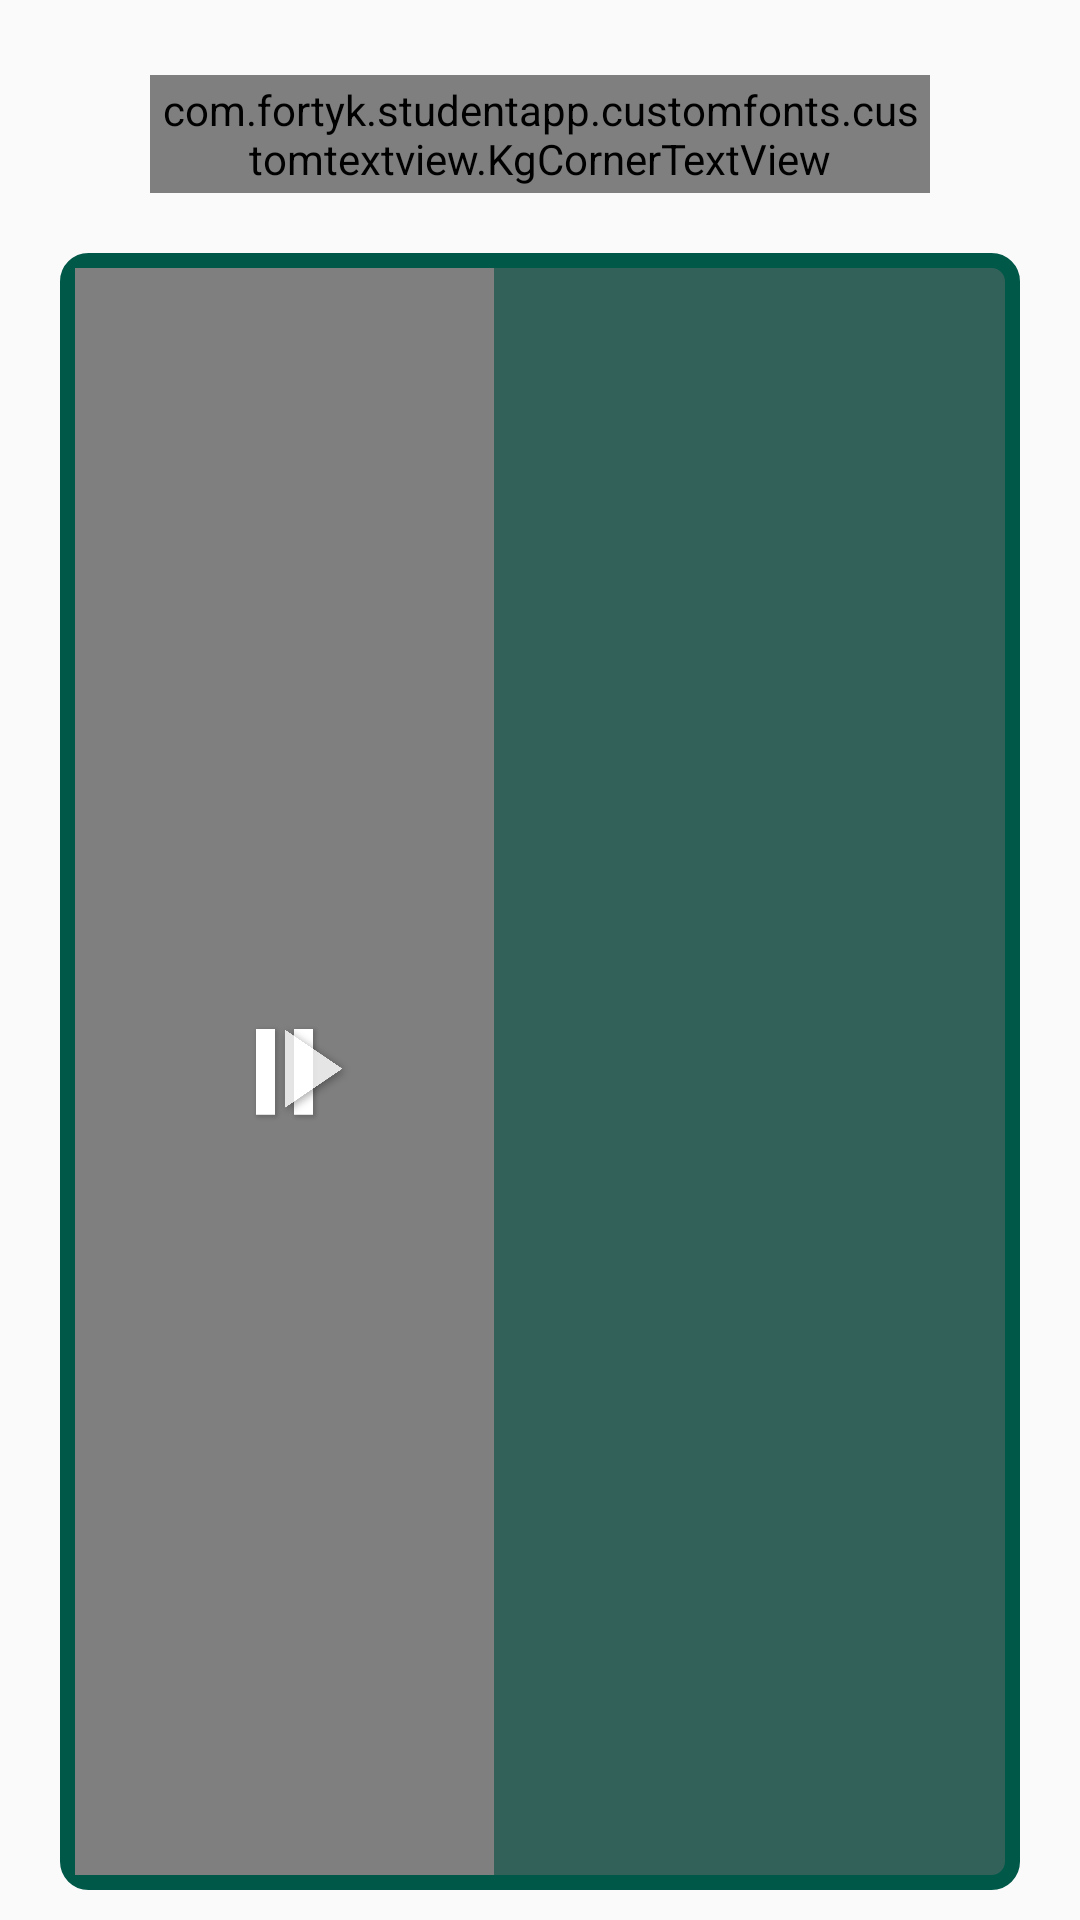

Screen size 1080x1920. Icon name, then its center in pixels as (x,y):
full play: (299,1072)
